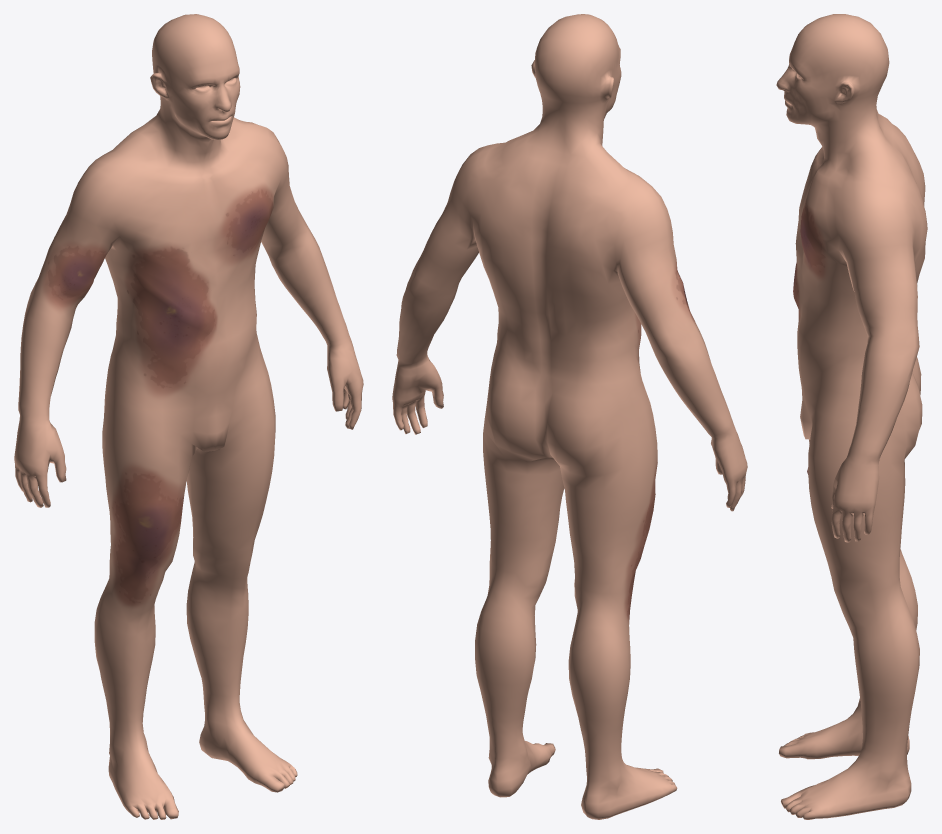
Rendered from human_body.glb.
3 renders of one model, left to right at view 1: azimuth 30°, elevation 25°; view 2: azimuth 150°, elevation 25°; view 3: azimuth 270°, elevation 25°, orthographic.
Parts seen in each view (by area): view 1: Realistic_White_Male_Low_Poly_Default OBJ.001_0; view 2: Realistic_White_Male_Low_Poly_Default OBJ.001_0; view 3: Realistic_White_Male_Low_Poly_Default OBJ.001_0.
Part boxes in pixels (box(x1,y1,x2,y2)): Realistic_White_Male_Low_Poly_Default OBJ.001_0: box(14, 14, 363, 819); Realistic_White_Male_Low_Poly_Default OBJ.001_0: box(392, 14, 747, 819); Realistic_White_Male_Low_Poly_Default OBJ.001_0: box(776, 14, 927, 819).
Bounding box in the file's own units: 0.9004 × 1.93 × 0.3461.
1 material, 1 textured.
